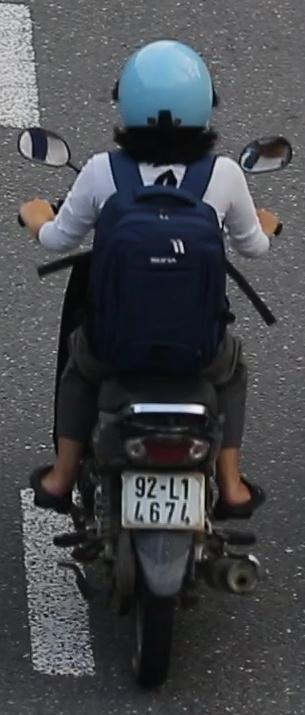LP: (119, 466, 213, 534)
helmet: (109, 26, 222, 169)
